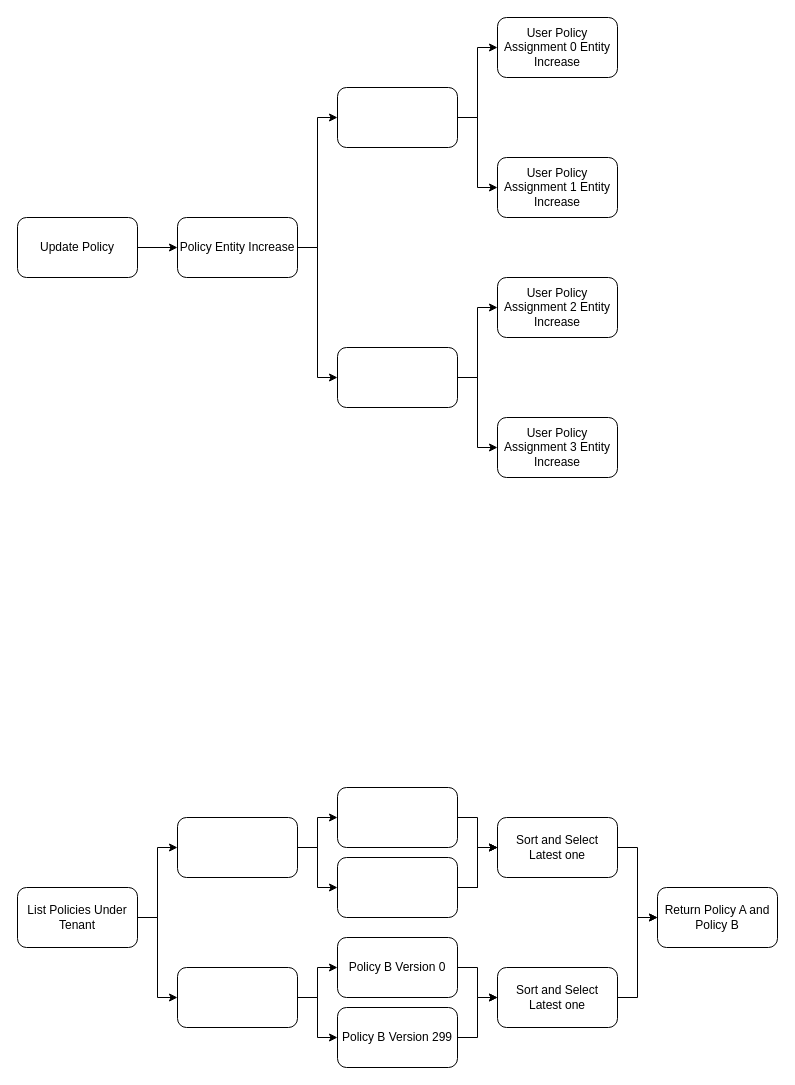
Some shapes in this 795 by 1085 pixel diagram are drawn without their labels. The centre of each missing label's shape, as x and y in pixels:
Group Policy Assignment 0 Entity Increase: point (397, 117)
Group Policy Assignment 1 Entity Increase: point (397, 377)
Policy A Version 0: point (397, 817)
Policy A Version 299: point (397, 887)
Retrieve Policy A all version: point (237, 847)
Retrieve Policy B all version: point (237, 997)
